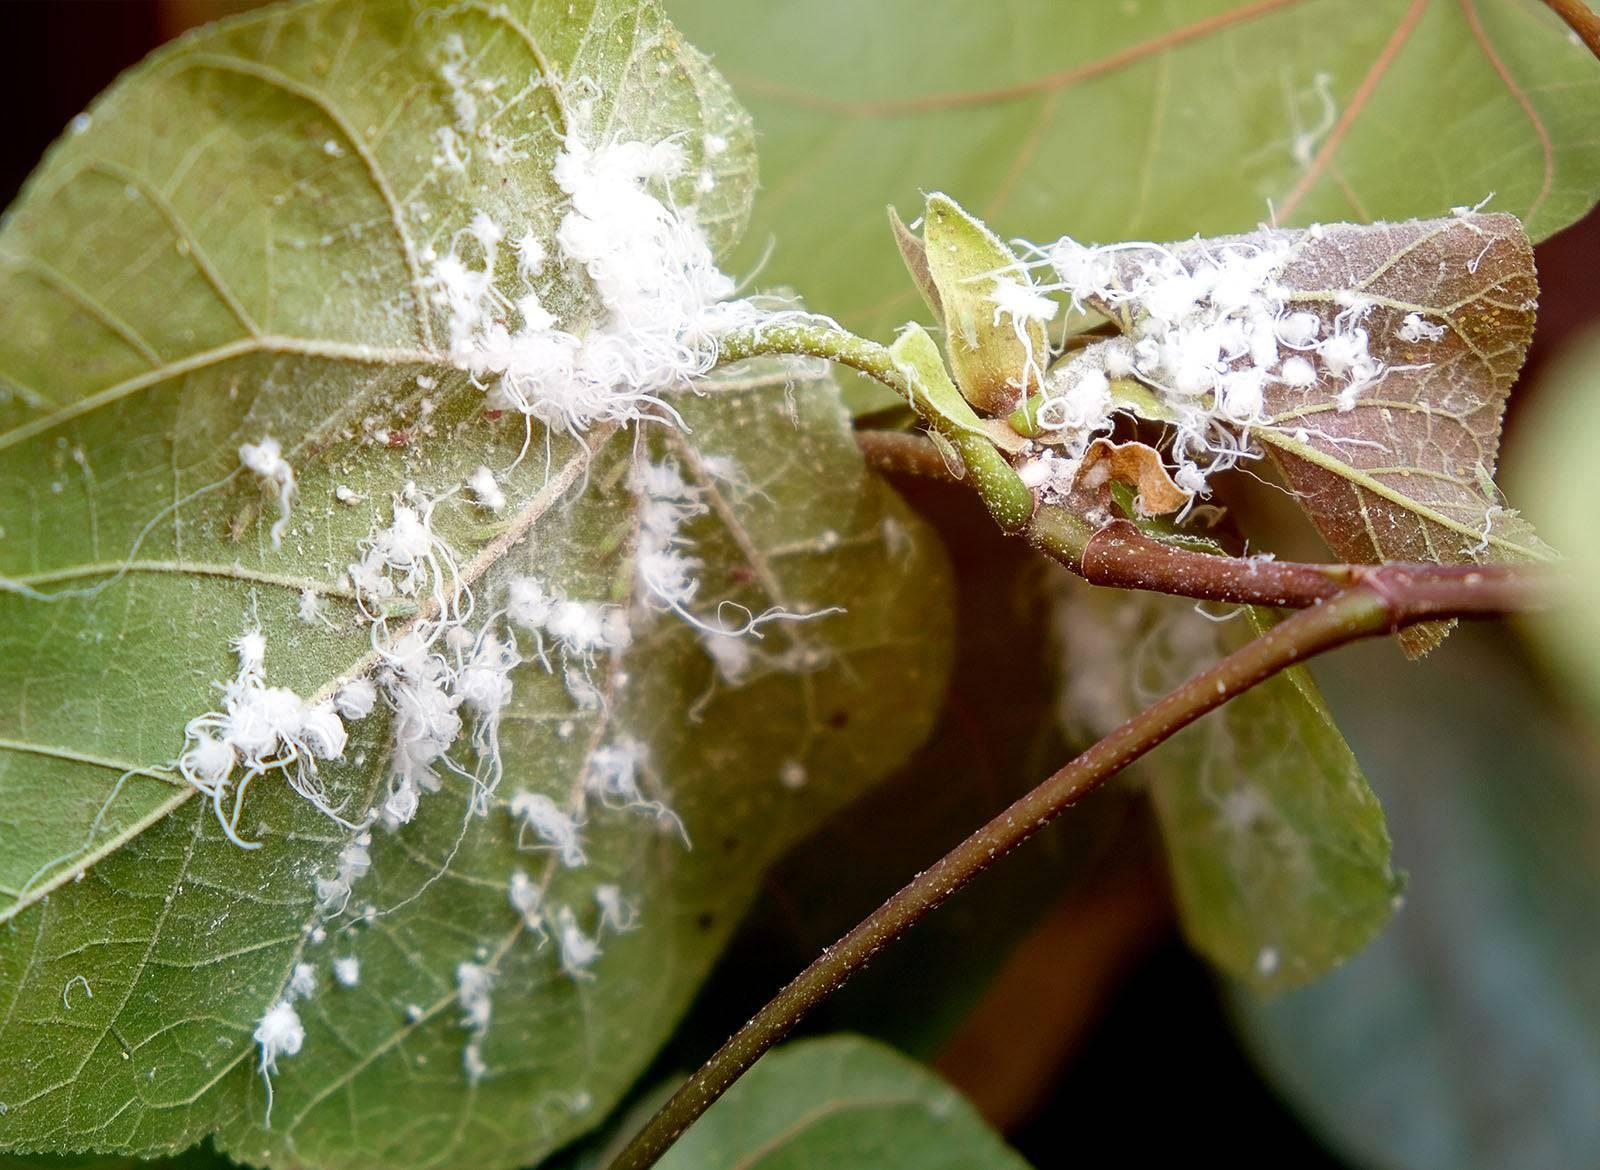pseudococcidae: (129, 9, 878, 1122), (954, 207, 1545, 592)
